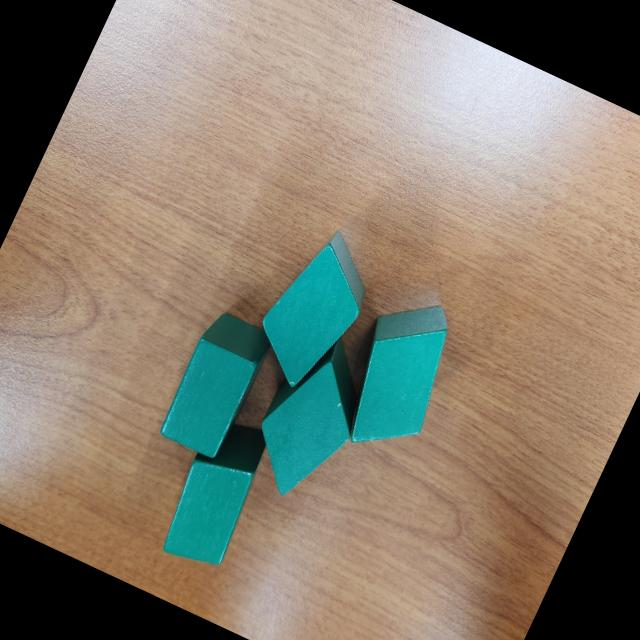green: (235, 322, 387, 513), (240, 217, 387, 401), (325, 283, 472, 465), (152, 408, 280, 576), (153, 306, 276, 464)
